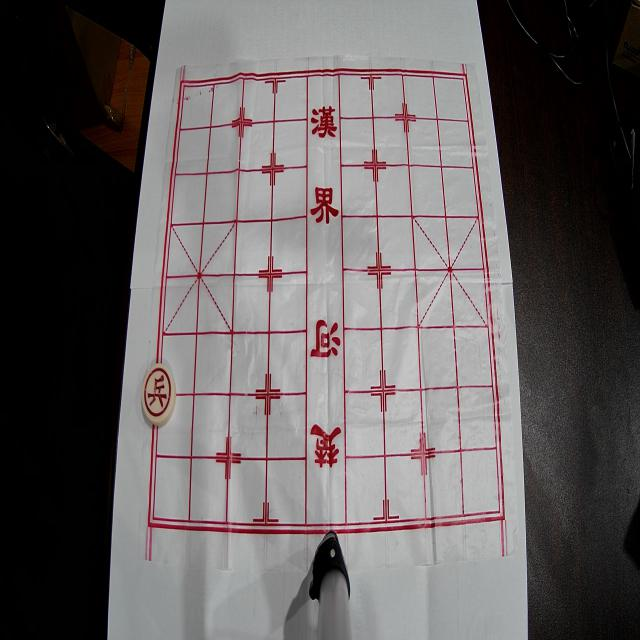red-soldier: (142, 364, 176, 426)
